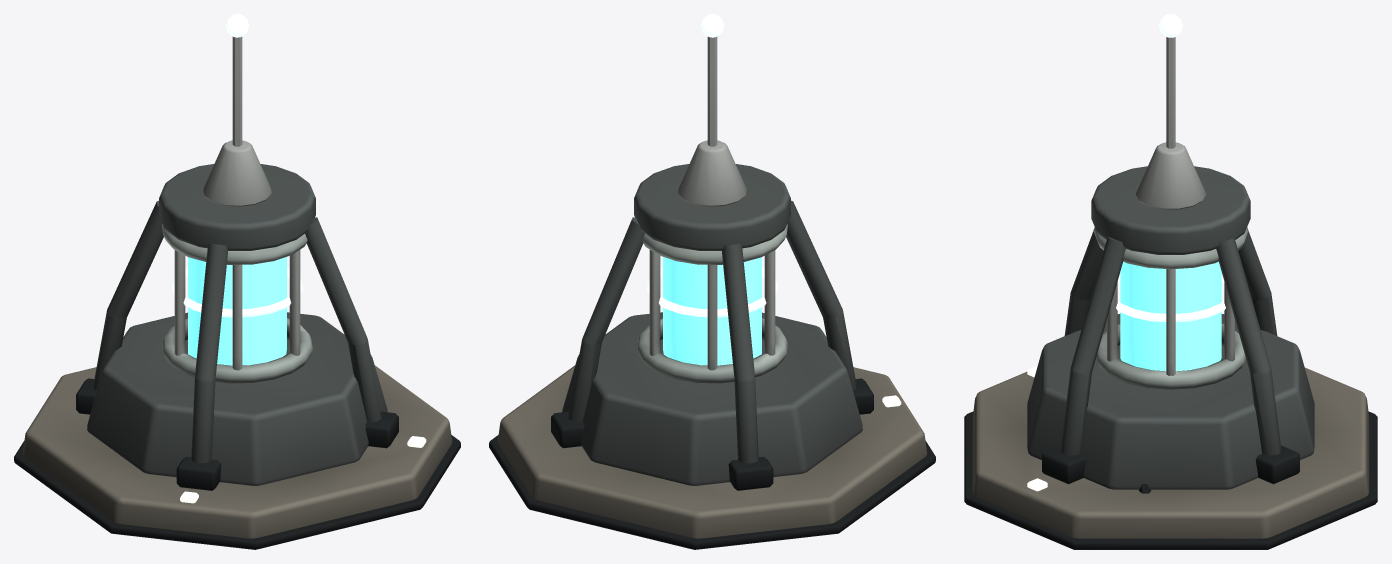
Rendered from relay.glb.
3 renders of one model, left to right at view 1: azimuth 30°, elevation 25°; view 2: azimuth 150°, elevation 25°; view 3: azimuth 270°, elevation 25°, orthographic.
Visible parts, largest first — view 1: Base, Foundation.003, Steel.011, Core, Trim.003, Rings, Gear.009, Lights.009; view 2: Base, Foundation.003, Steel.011, Core, Trim.003, Rings, Gear.009, Lights.009; view 3: Base, Foundation.003, Core, Steel.011, Trim.003, Rings, Gear.009, Lights.009.
Boxes of the visible parts, box(x1,y1,x2,y2) form: Base: box(87, 164, 387, 485); Foundation.003: box(22, 365, 452, 538); Steel.011: box(174, 36, 300, 370); Core: box(188, 257, 286, 365); Trim.003: box(14, 435, 460, 549); Rings: box(162, 224, 312, 383); Gear.009: box(76, 378, 398, 490); Lights.009: box(172, 14, 302, 317); Base: box(562, 164, 862, 485); Foundation.003: box(497, 365, 927, 538); Steel.011: box(649, 36, 775, 370); Core: box(663, 257, 761, 365); Trim.003: box(489, 435, 935, 549); Rings: box(637, 224, 787, 383); Gear.009: box(551, 378, 873, 490); Lights.009: box(647, 14, 777, 317); Base: box(1027, 166, 1314, 489); Foundation.003: box(972, 367, 1369, 538); Core: box(1120, 261, 1221, 371); Steel.011: box(1107, 37, 1234, 375); Trim.003: box(964, 411, 1377, 549); Rings: box(1093, 228, 1248, 389); Gear.009: box(1042, 445, 1299, 493); Lights.009: box(1116, 14, 1225, 322).
Bounding box in the file's own units: 3.42 × 4.1 × 3.42.
